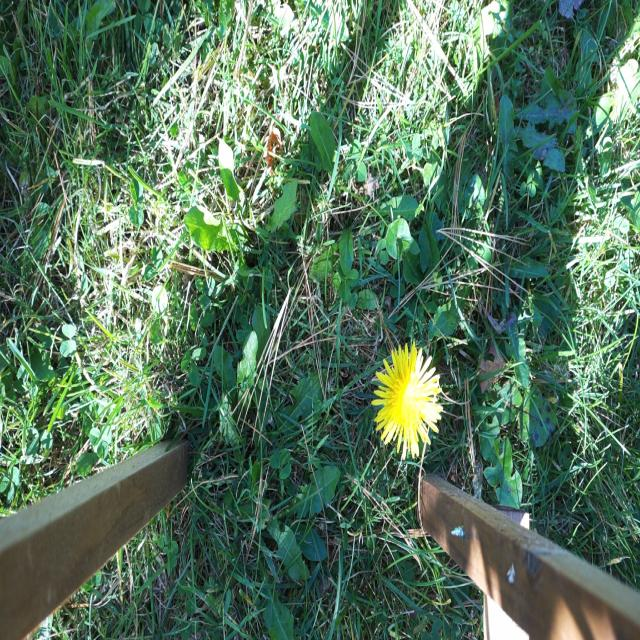flower: (374, 341, 444, 457)
